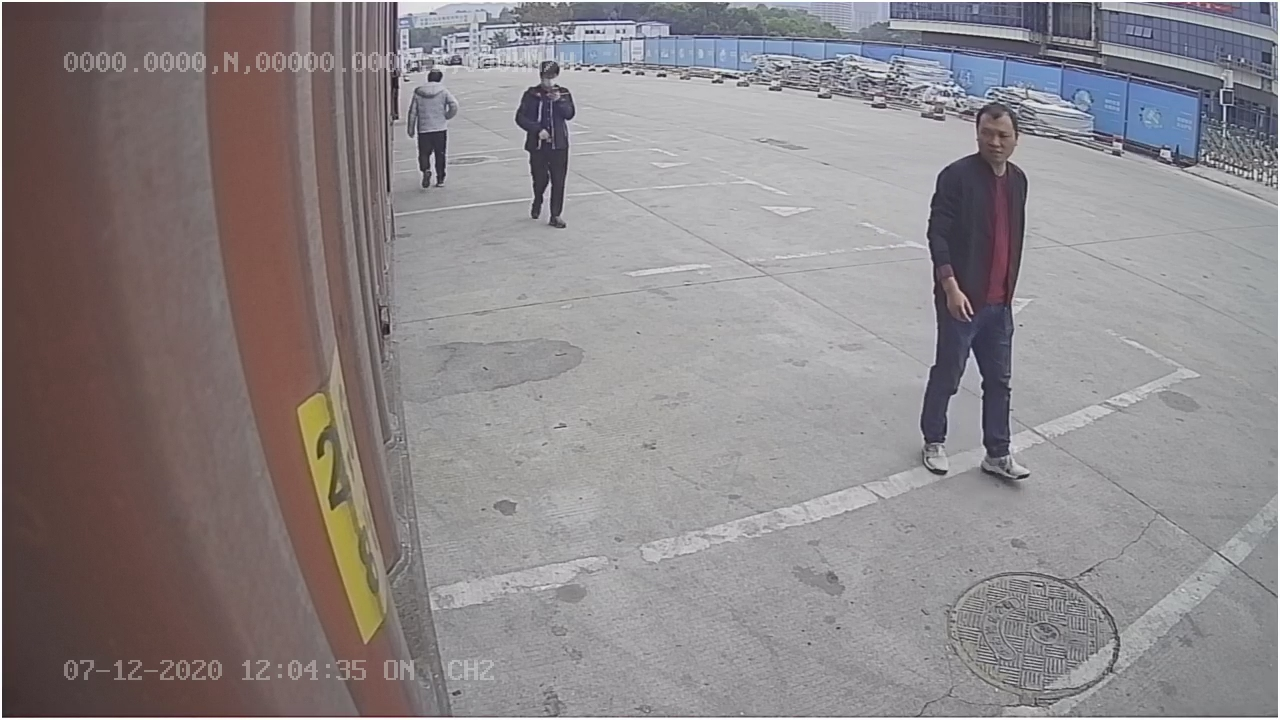person: (919, 100, 1038, 485)
